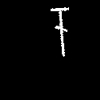double_crochet: (51, 8, 68, 55)
